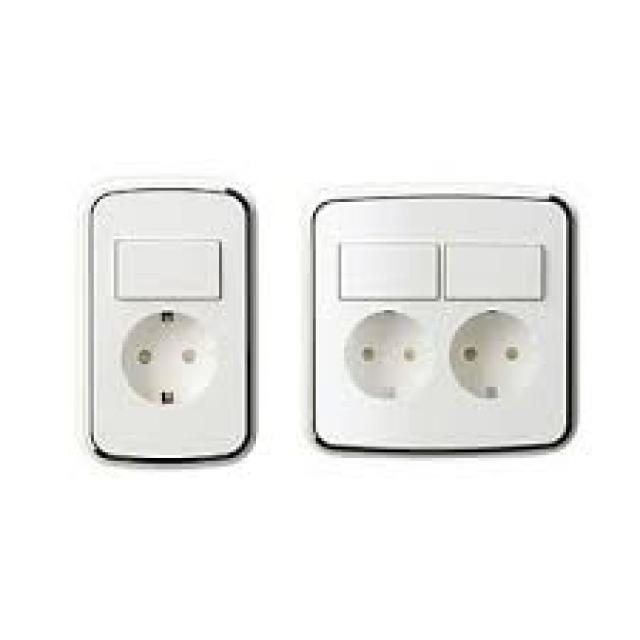typeb: (287, 131, 606, 536), (53, 132, 275, 524)
